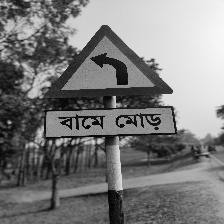Left-Turn: (40, 25, 177, 139)
